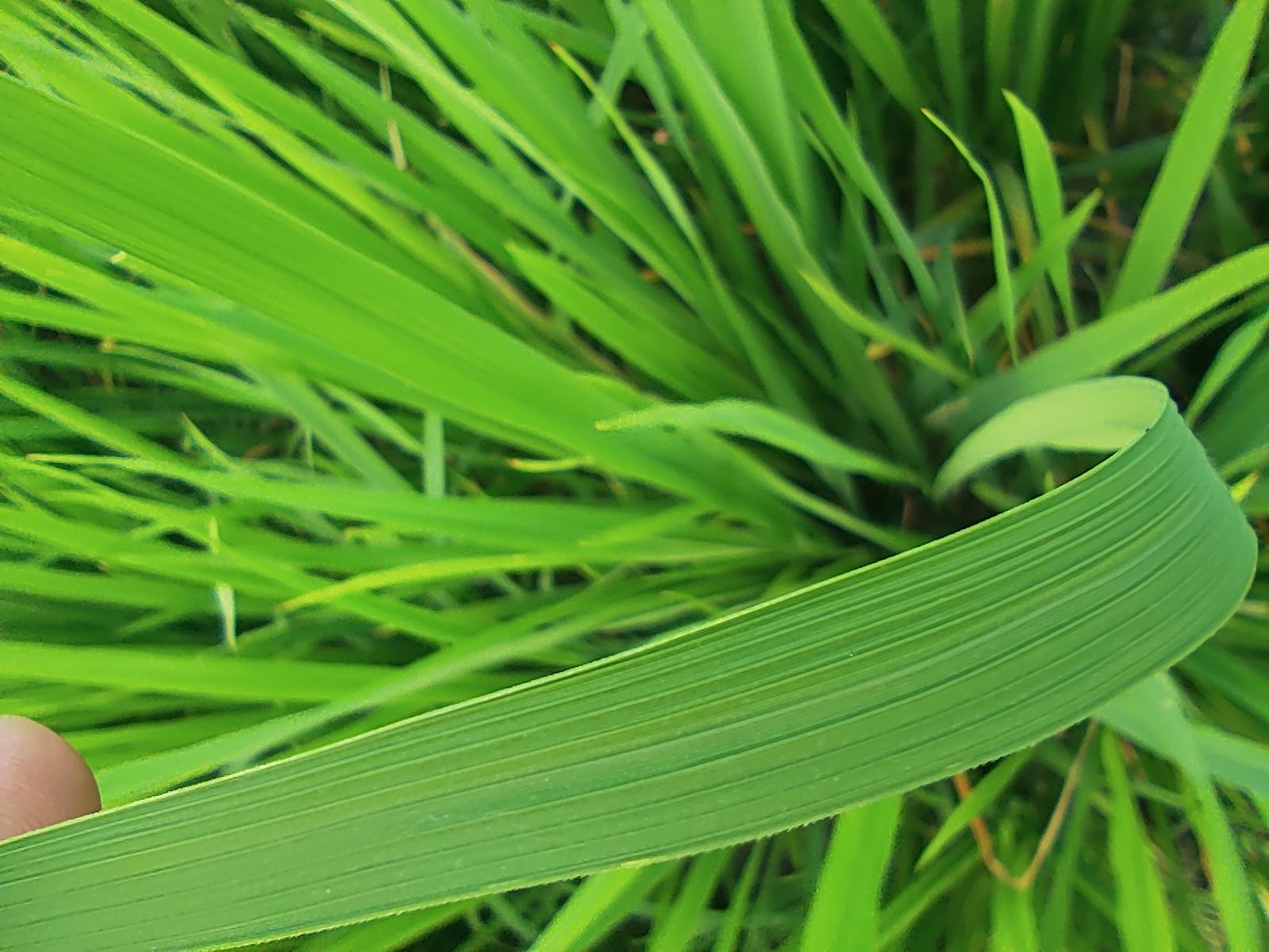Healthy: (0, 0, 766, 942)
